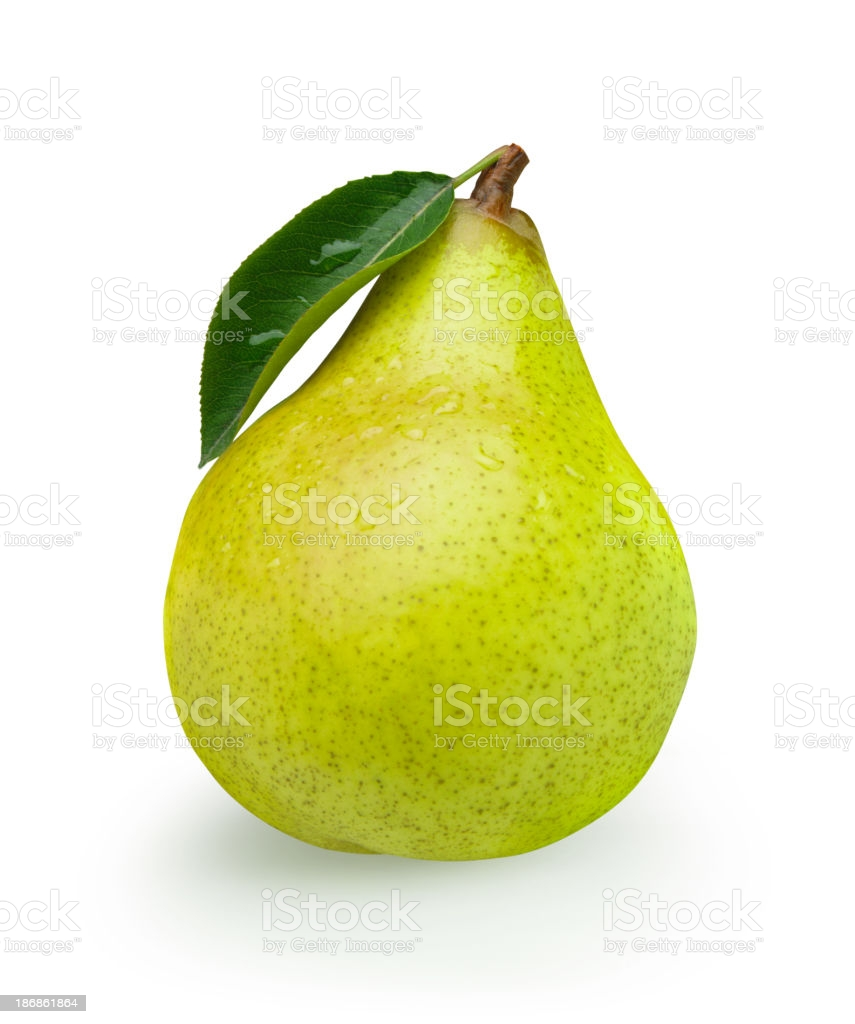pear: (162, 202, 700, 866)
